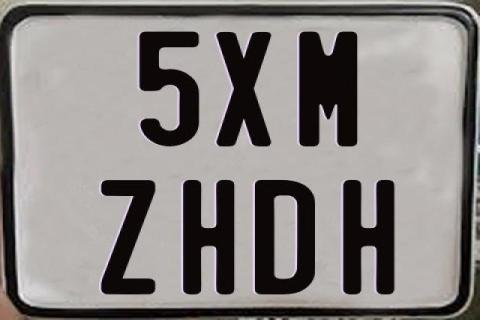0: (138, 29, 200, 144)
D: (254, 180, 318, 298)
H: (182, 178, 236, 292), (341, 178, 393, 294)
M: (300, 30, 362, 148)
X: (216, 30, 275, 146)
Z: (99, 178, 155, 292)
